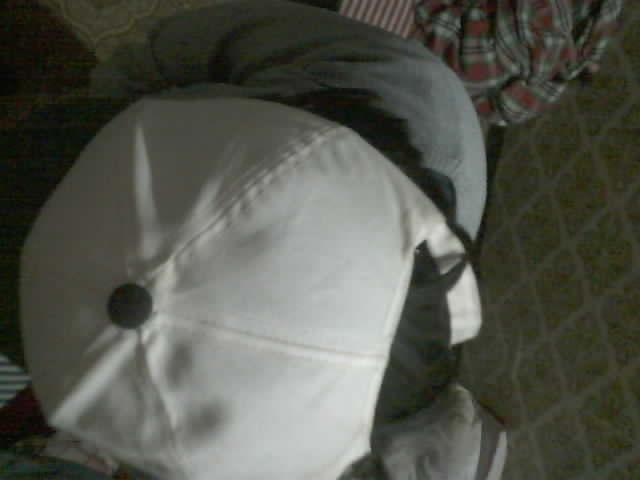cap: (19, 93, 483, 479)
